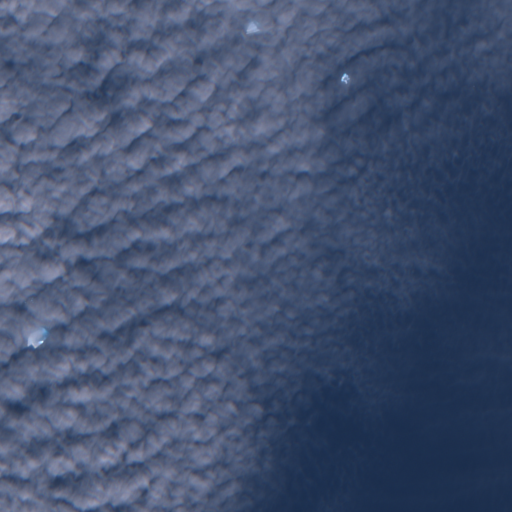Iceberg: (28, 328, 48, 347), (246, 22, 258, 34), (341, 73, 349, 83)
